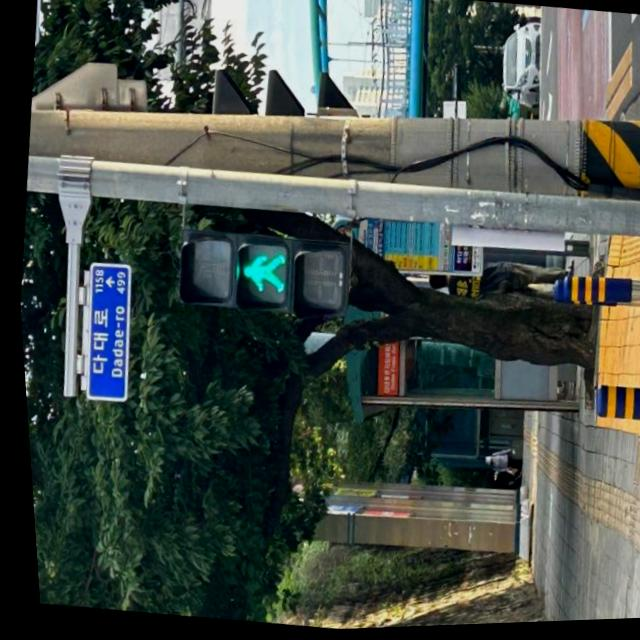green_light: (233, 244, 287, 306)
